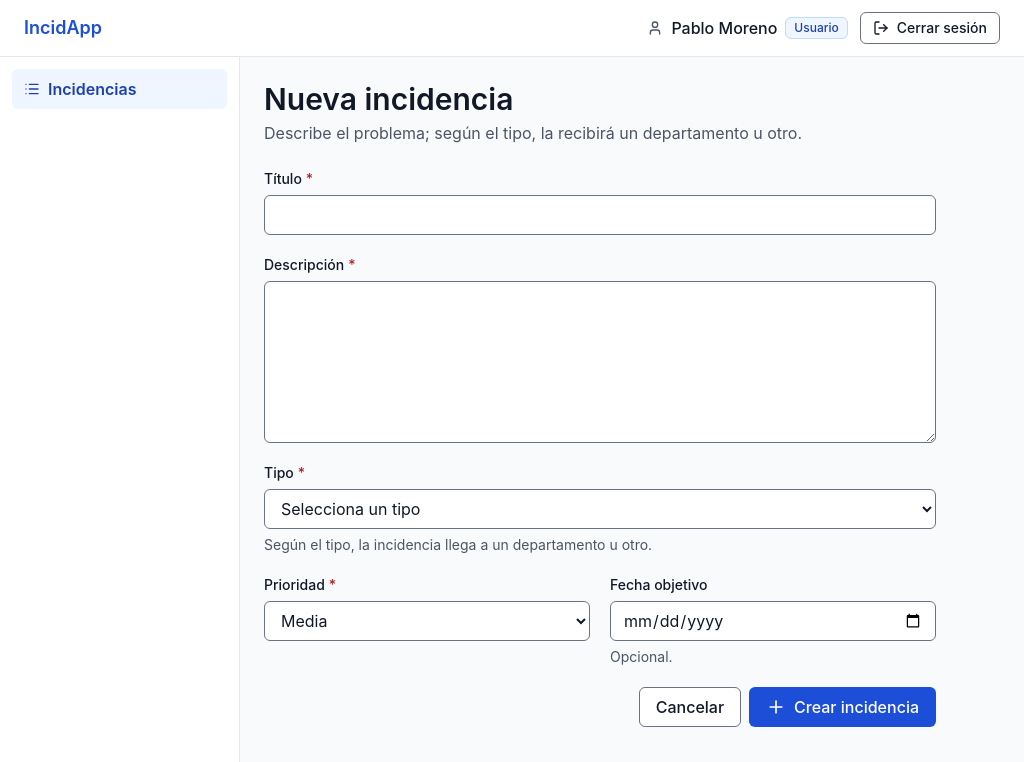
CA-03.13 · alta desde la web › otros errores de la API se muestran en un aviso en español
Type "Palé dañado en la recepción del camión de las 8:00" into the field labelled "Título*" at (600, 215), box [264, 195, 936, 235]
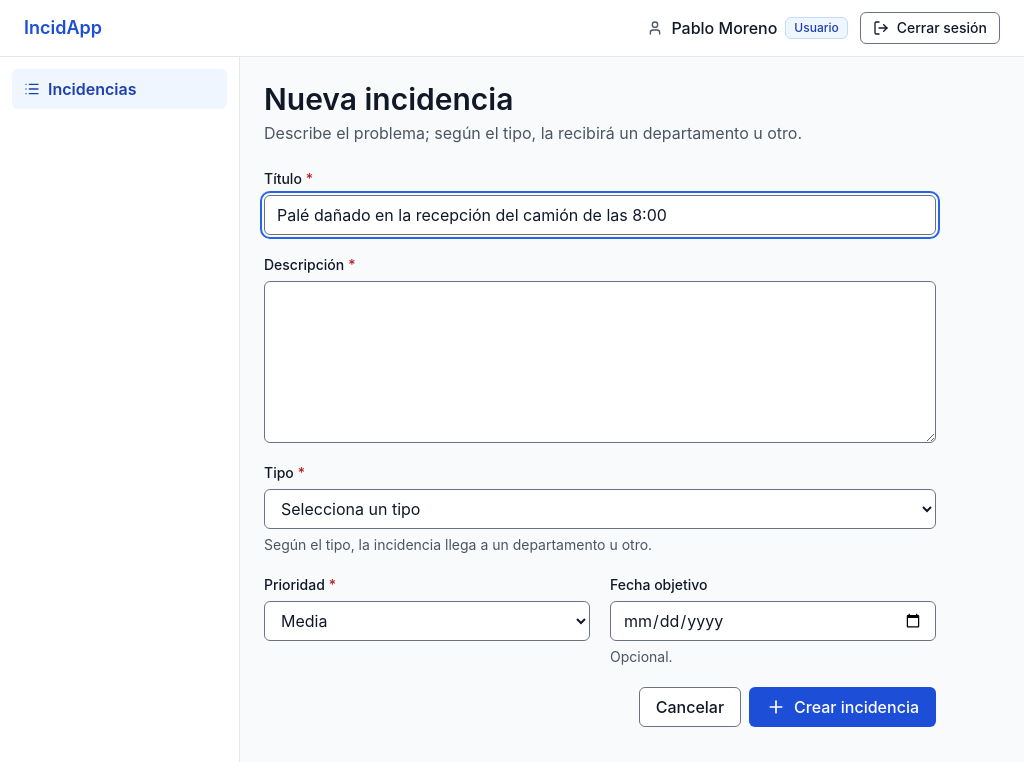
Type "El palé llegó con el film roto." into the text box labelled "Descripción*" at (600, 362), box [264, 281, 936, 443]
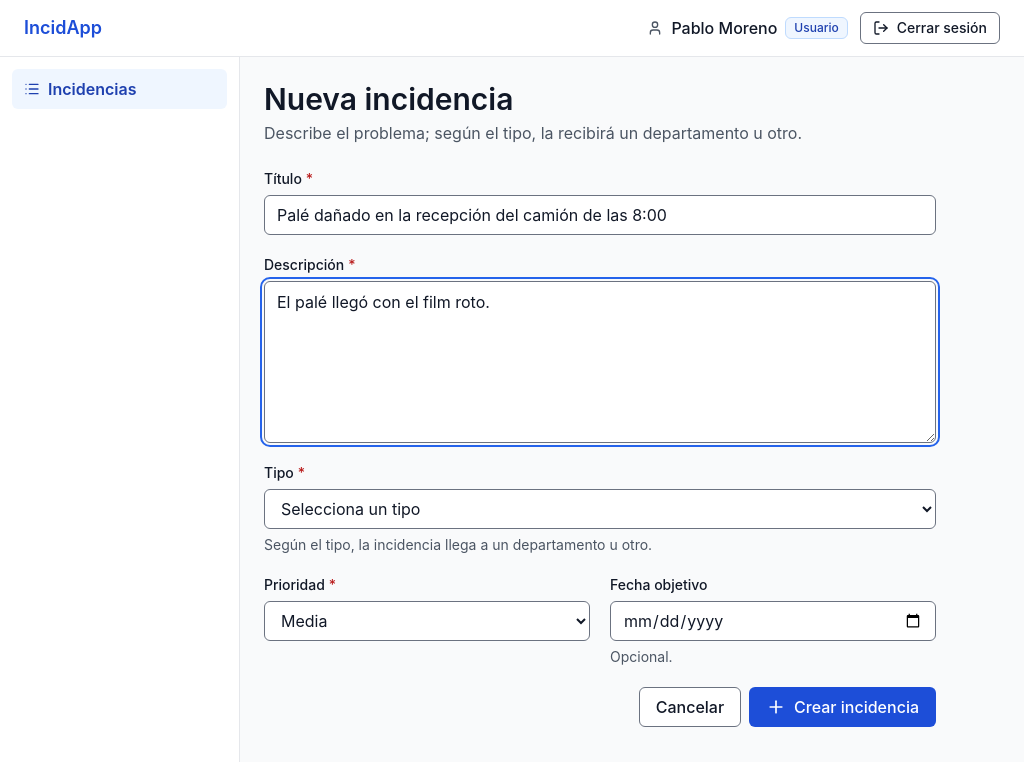
Select "Transporte" in the dropdown labelled "Tipo*" at (600, 509), box [264, 489, 936, 529]
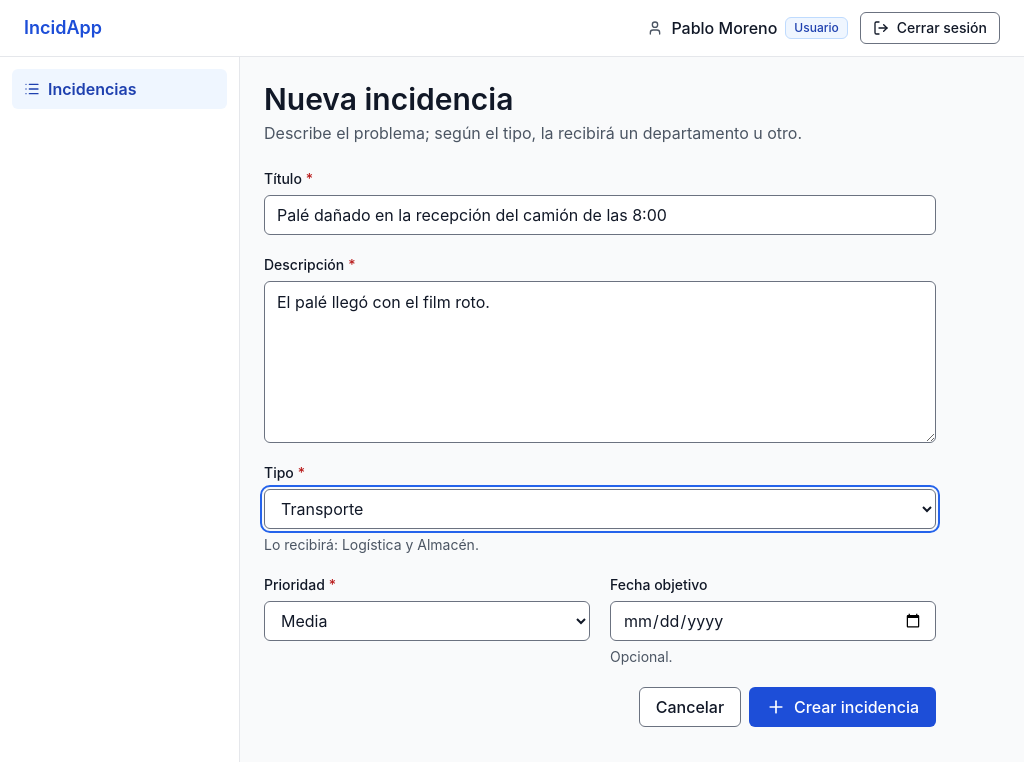
Select "Alta" in the dropdown labelled "Prioridad*" at (427, 621), box [264, 601, 590, 641]
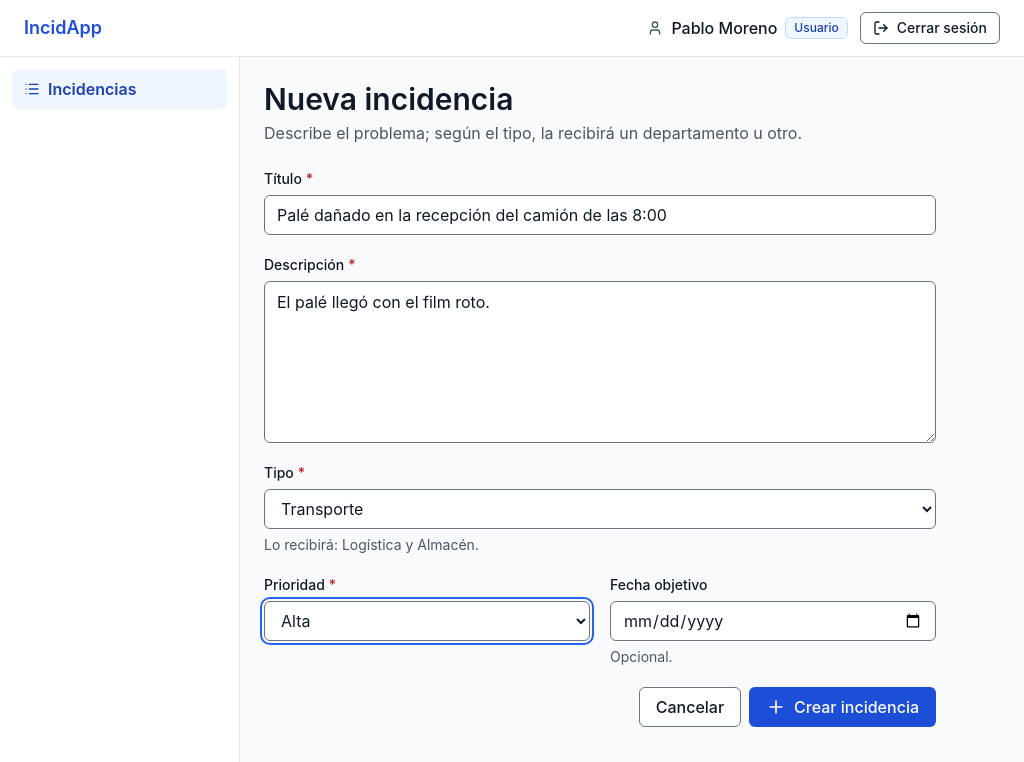
Click the button "Crear incidencia" at (843, 707), box [749, 687, 936, 727]
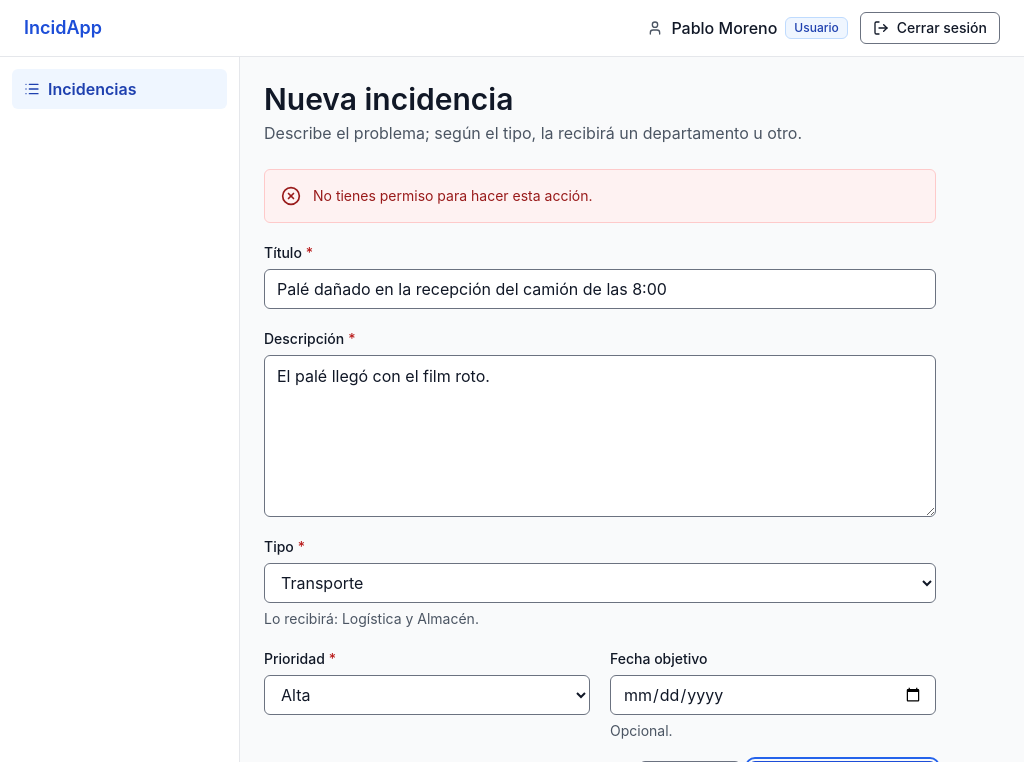
Result: the message reads "No tienes permiso para hacer esta acción." at [313, 187, 592, 204]
